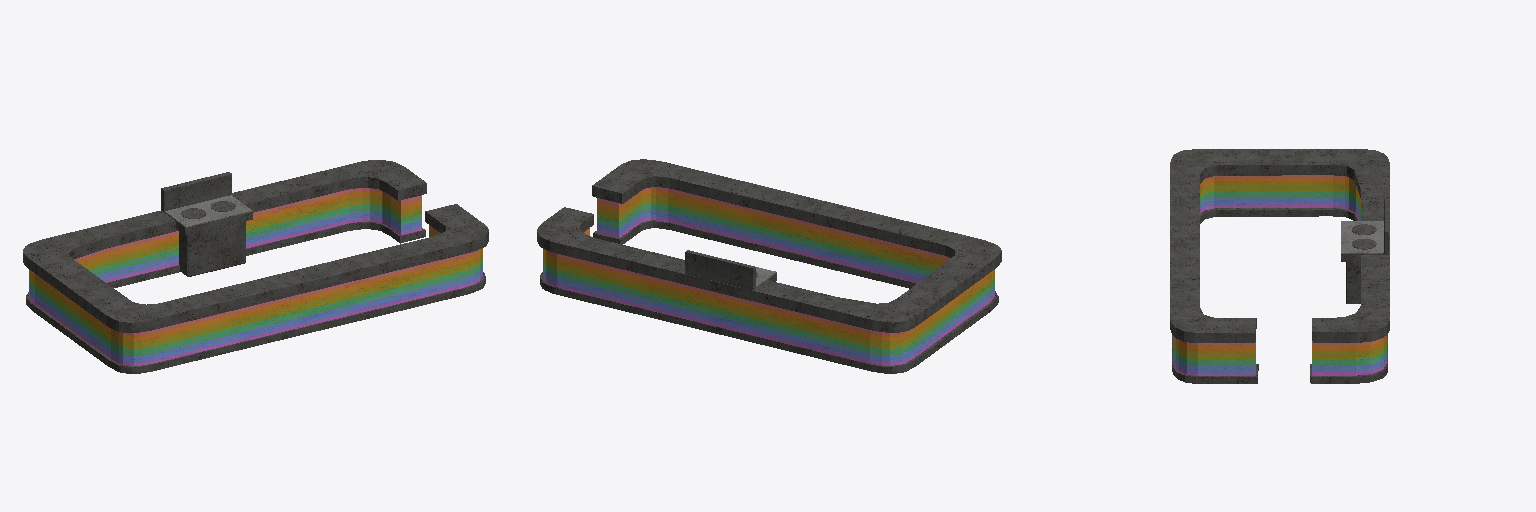
3 renders of one model, left to right at view 1: azimuth 30°, elevation 25°; view 2: azimuth 150°, elevation 25°; view 3: azimuth 270°, elevation 25°, orthographic.
Parts seen in each view (by area): view 1: Table.001_Cube.017; view 2: Table.001_Cube.017; view 3: Table.001_Cube.017.
Boxes of the visible parts, x1=… form: Table.001_Cube.017: x1=23, y1=160, x2=488, y2=373; Table.001_Cube.017: x1=537, y1=159, x2=1001, y2=373; Table.001_Cube.017: x1=1170, y1=149, x2=1389, y2=383.
Size of the model in its own units: 21.5 by 4.08 by 10.86.
Materials: 3 (3 with a texture image).